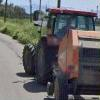tractors: (20, 6, 100, 100)
